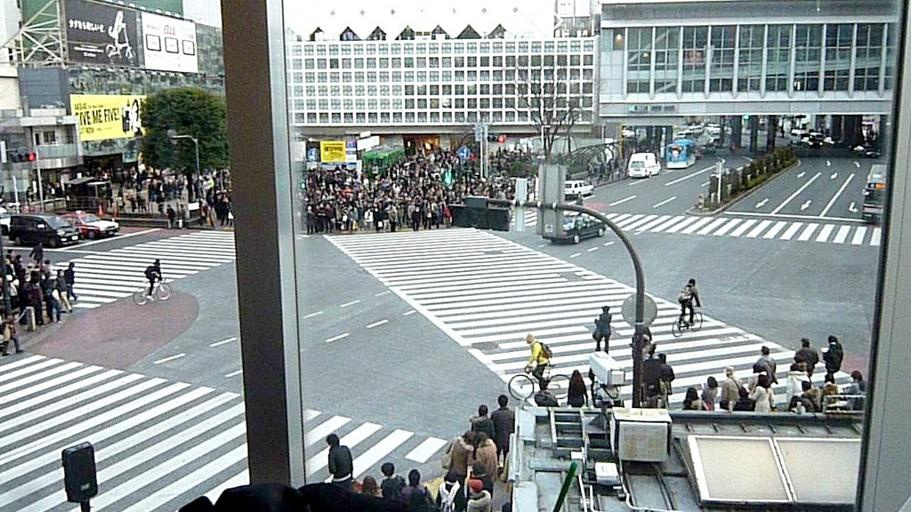non-vehicle: (506, 363, 570, 401), (132, 275, 171, 306), (671, 303, 702, 338)
